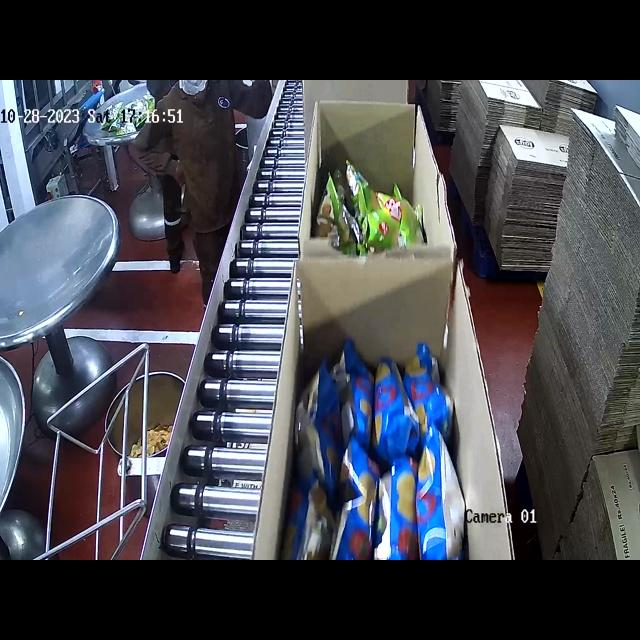paprika: (298, 346, 475, 557)
yogurt: (321, 169, 421, 254)
